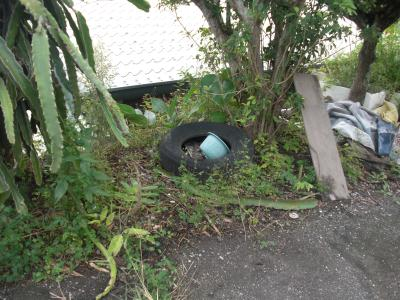bowl: (198, 129, 230, 164)
plastic_bag: (332, 100, 400, 146)
tire: (152, 121, 256, 178)
